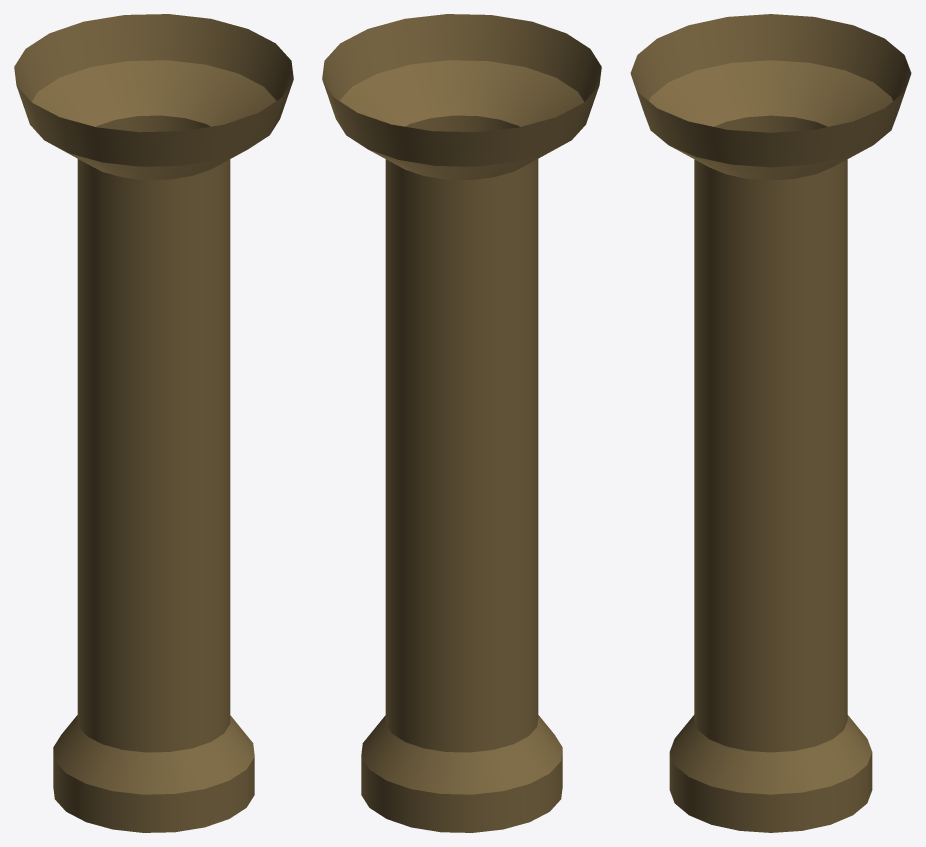
Rendered from pilar_1piso.fbx.
The picture shows the model from 3 angles, left to right: view 1: azimuth 30°, elevation 25°; view 2: azimuth 150°, elevation 25°; view 3: azimuth 270°, elevation 25°; orthographic projection.
Parts seen in each view (by area): view 1: pilar_1piso; view 2: pilar_1piso; view 3: pilar_1piso.
Part boxes in pixels (x1,y1,x2,y2): pilar_1piso: (14,14,293,832); pilar_1piso: (322,14,601,832); pilar_1piso: (630,14,911,832).
Size of the model in its own units: 1.13 by 3.19 by 1.13.
